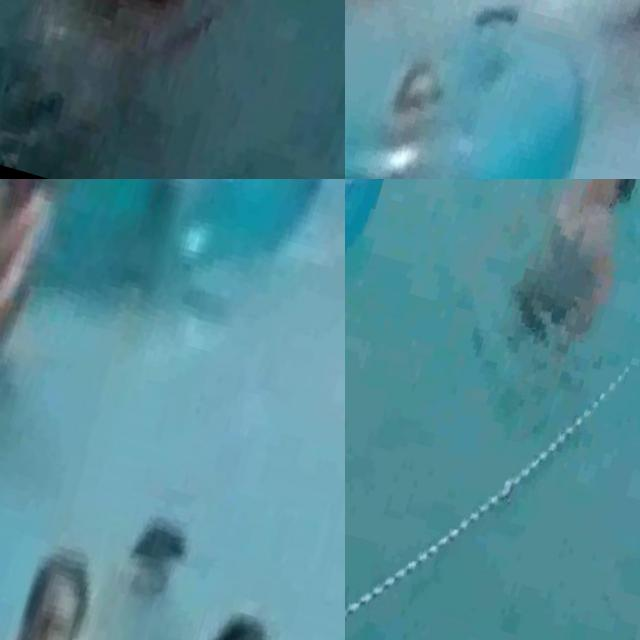drowning: (459, 179, 640, 415), (9, 0, 318, 97), (98, 470, 234, 607)
swimming: (0, 179, 94, 421), (0, 563, 102, 640), (169, 590, 287, 640)
